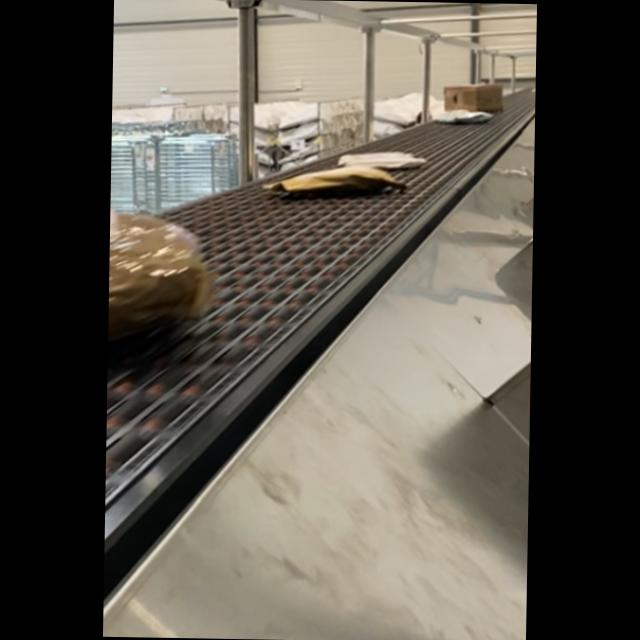box: (445, 82, 503, 112)
mailer: (108, 210, 200, 360), (263, 162, 398, 200), (342, 148, 422, 170), (434, 110, 489, 124)
